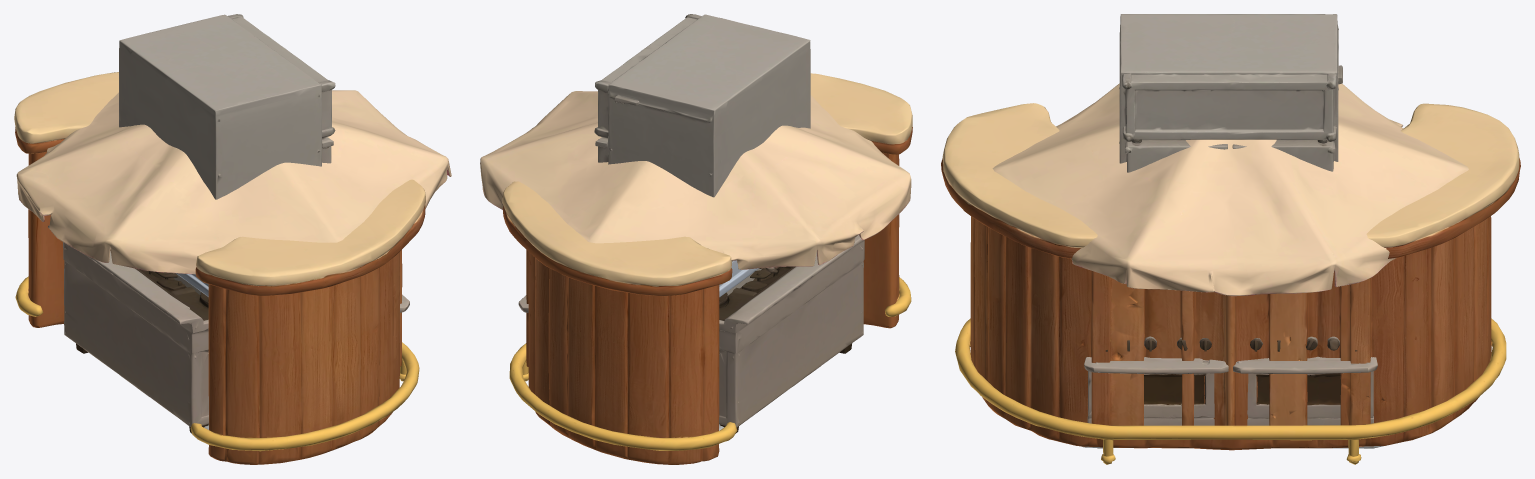
File: restaurant.glb
3 views of the same model, side by side, from view 1: azimuth 30°, elevation 25°; view 2: azimuth 150°, elevation 25°; view 3: azimuth 270°, elevation 25° (orthographic). The views are drawn at different scales.
Parts seen in each view (by area): view 1: comptoir-bar, parasol-terrasse, frigo-pro, piano-cuisson; view 2: comptoir-bar, parasol-terrasse, frigo-pro, piano-cuisson, plan-inox; view 3: comptoir-bar, parasol-terrasse, frigo-pro, piano-cuisson.
Boxes of the visible parts, x1,y1,x2,y2 form: comptoir-bar: (14,72,425,464); parasol-terrasse: (16,90,451,274); frigo-pro: (119,14,335,294); piano-cuisson: (48,225,409,433); comptoir-bar: (502,73,912,464); parasol-terrasse: (480,91,911,269); frigo-pro: (594,14,810,295); piano-cuisson: (518,235,864,433); plan-inox: (719,260,758,297); comptoir-bar: (941,103,1520,464); parasol-terrasse: (992,83,1468,296); frigo-pro: (1119,14,1342,172); piano-cuisson: (1084,336,1377,448).
Size of the model in its own units: 2.42 by 2 by 3.
Materials: 28 (28 with a texture image).
